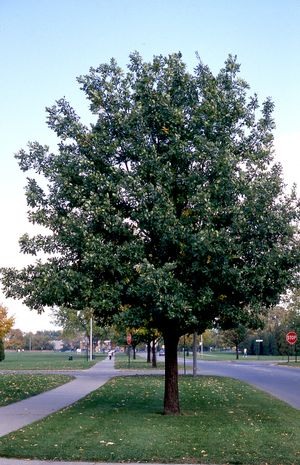tree: (1, 47, 300, 417)
